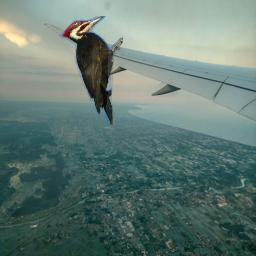Woodpecker: (59, 16, 123, 125)
